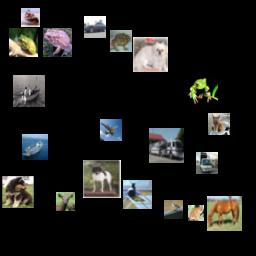airplane: (100, 119, 122, 141)
automobile: (84, 16, 106, 38)
bird: (164, 200, 183, 219)
cat: (123, 180, 152, 209)
deer: (56, 192, 75, 211)
dog: (83, 160, 121, 198), (133, 37, 168, 72), (2, 176, 34, 208)
frog: (186, 75, 218, 107), (43, 28, 72, 57), (9, 28, 38, 57), (110, 30, 132, 52), (188, 205, 204, 221)
ship: (13, 75, 45, 107), (22, 134, 48, 160), (21, 8, 40, 27)
truck: (149, 128, 184, 163), (196, 152, 218, 174)
